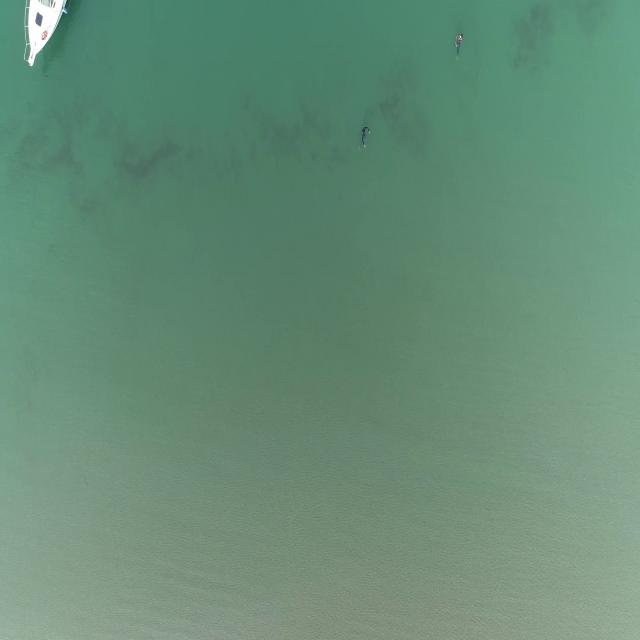boat: (21, 0, 69, 70)
person: (359, 126, 373, 148), (454, 31, 465, 59)
